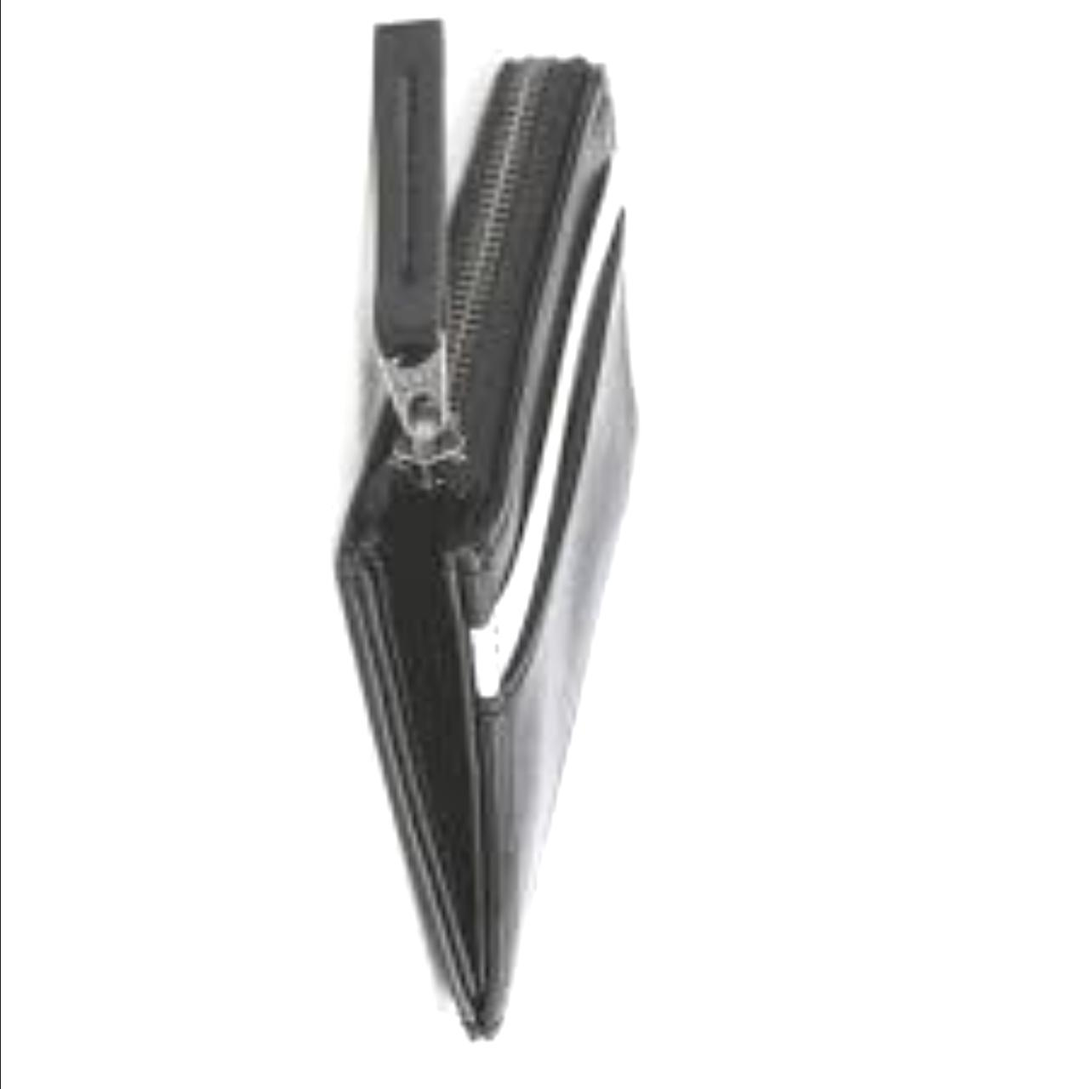wallet: (368, 48, 663, 1089)
